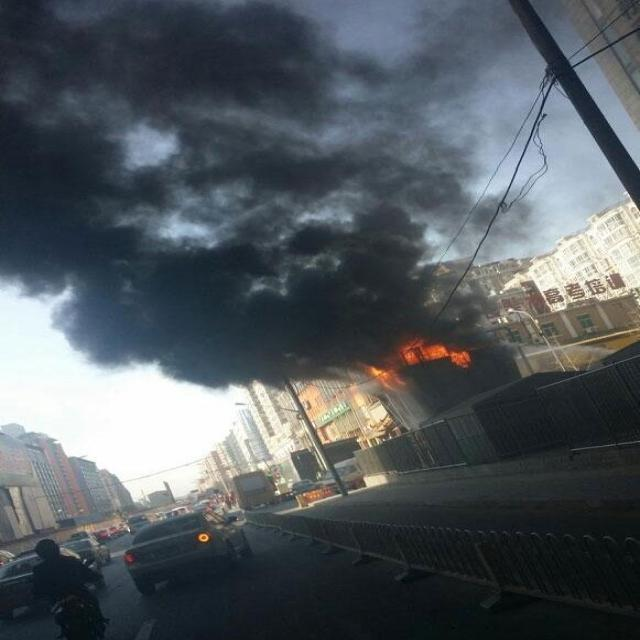Fire: (366, 340, 472, 390)
Smoke: (1, 1, 566, 392)
